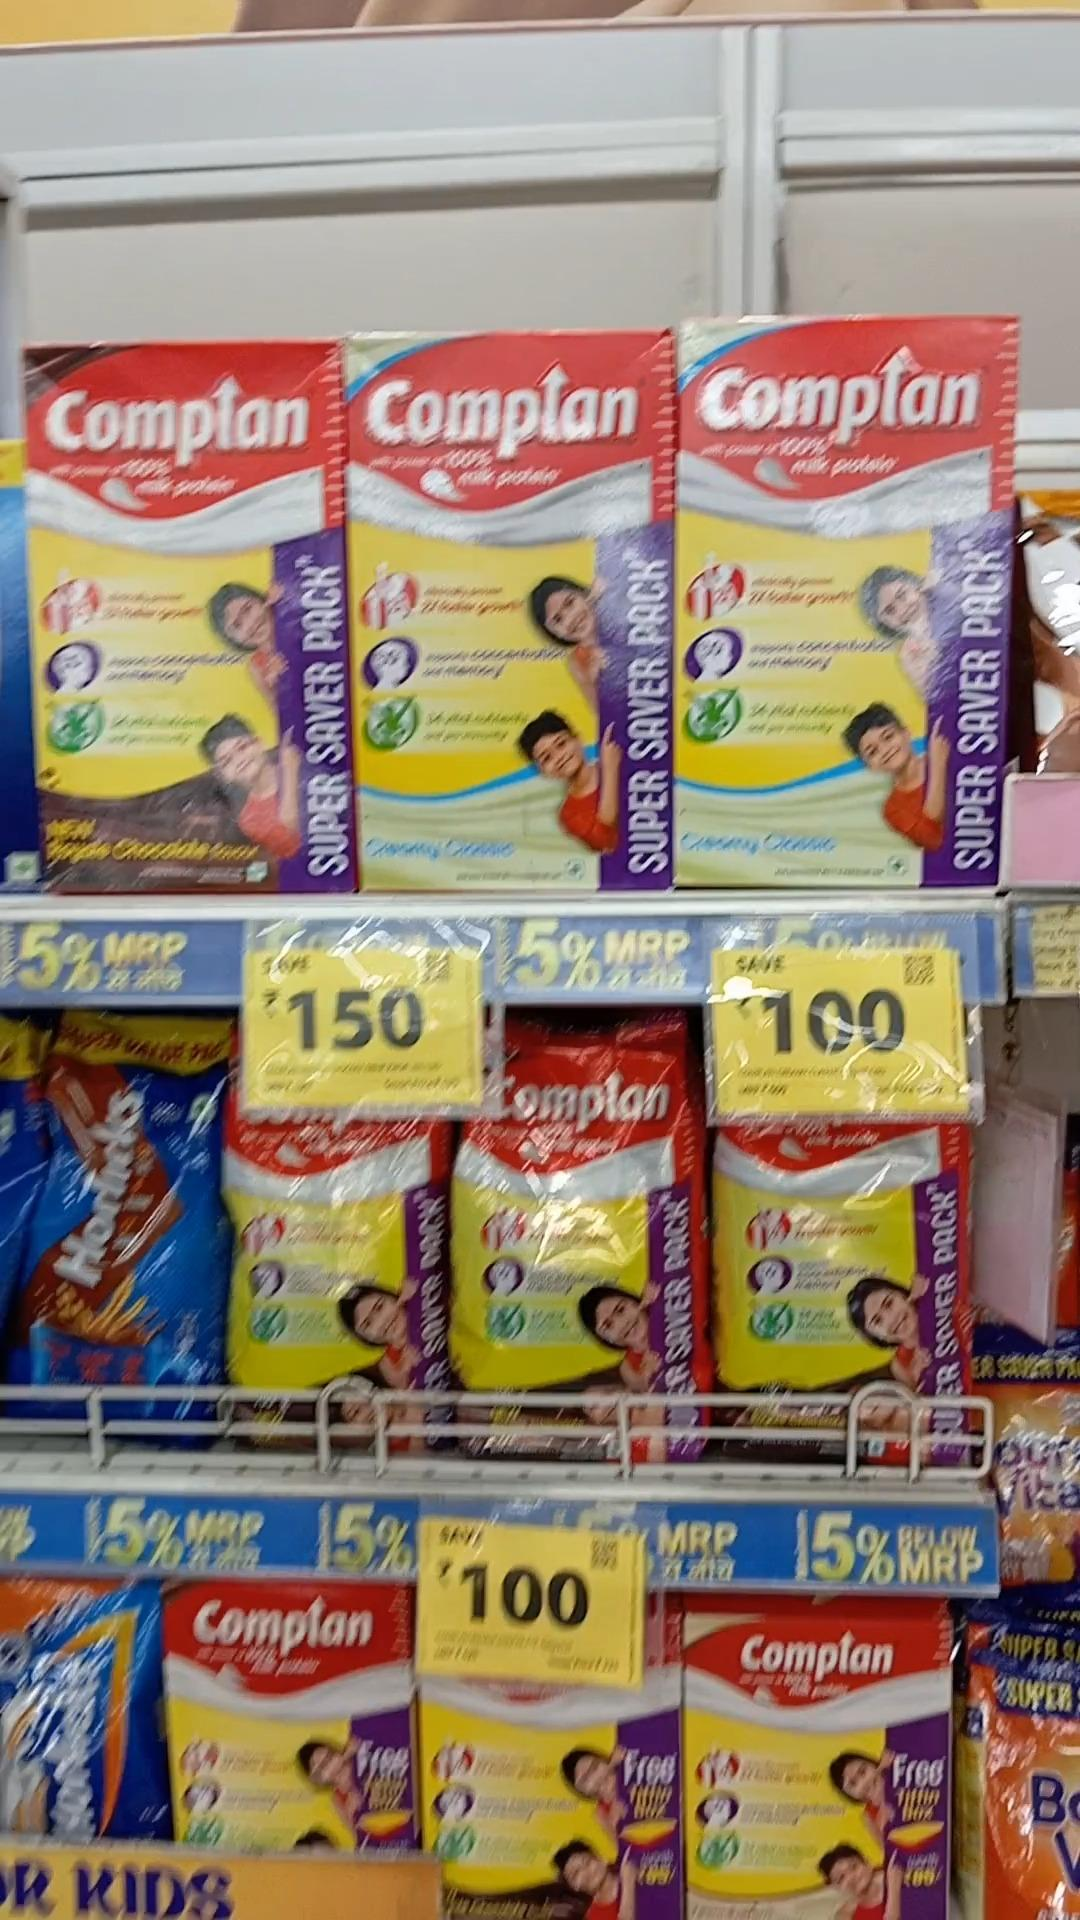COMPLAN_CHOCOLATE_1_KG_PACK: (22, 347, 353, 887)
COMPLAN_CHOCOLATE_500_GMS_PACK: (431, 1671, 673, 1920), (170, 1589, 409, 1841)
COMPLAN_KESAR_BADAM_500_GMS_PACK: (686, 1604, 945, 1920)
COMPLAN_RC_POUCH_700_GMS_12: (451, 1033, 705, 1456), (712, 1125, 973, 1474), (224, 1117, 444, 1447)
HORLICK_CHOCOLATE_750_G_POUCH: (30, 1010, 218, 1436)
HORLICK_CLASSIC_MALT_750_G_POUCH: (0, 1581, 165, 1840)
